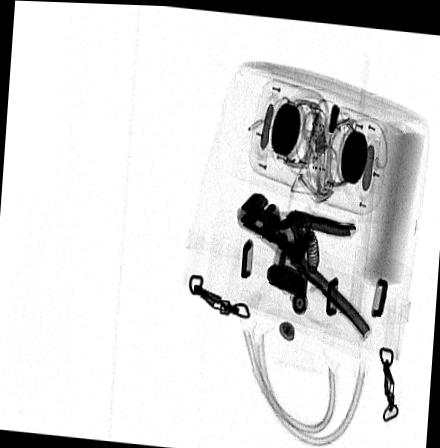Pliers: (238, 189, 371, 335)
